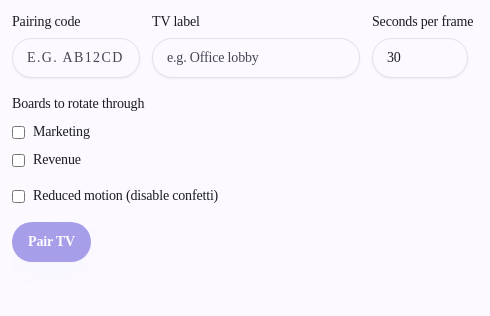
Scenario: ClaimTvPairingForm › shows an inline error when claiming fails
The image size is (490, 316).
Type "AB12CD" into the field labelled "Pairing code" at (76, 58), box [12, 38, 140, 78]
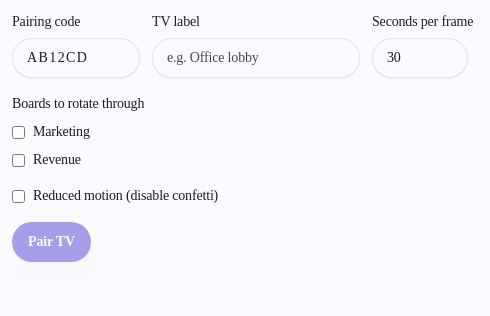
Type "Office lobby" into the field labelled "TV label" at (256, 58), box [152, 38, 360, 78]
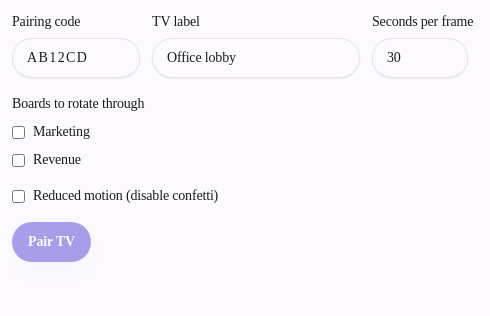
Click the checkbox labelled "Marketing" at (18, 132), box [12, 126, 25, 138]
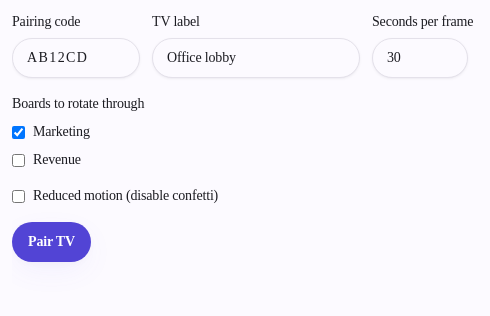
Click the button "Pair TV" at (51, 242), box [12, 222, 91, 262]
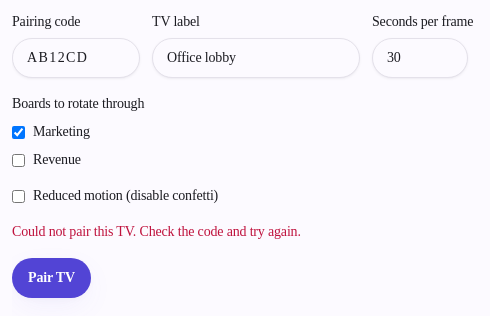
Now the message reads "Could not pair this TV. Check the code and try again.", box [12, 224, 301, 239]
